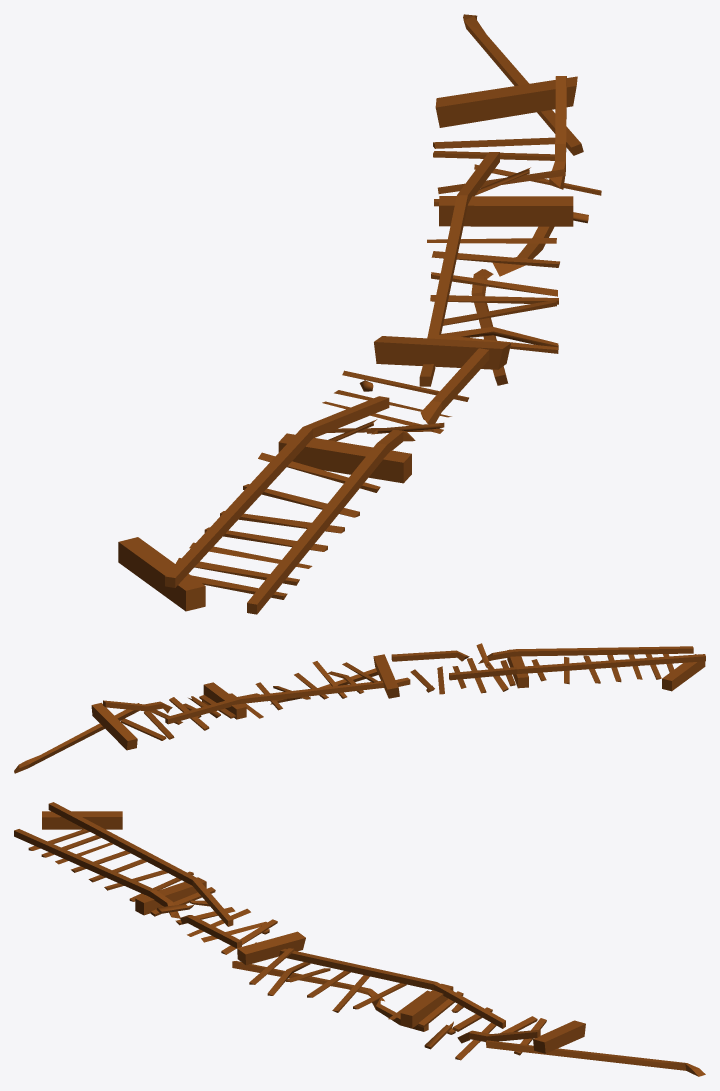
Rendered from fence00crush.fbx.
The picture shows the model from 3 angles, top to bottom: view 1: azimuth 30°, elevation 25°; view 2: azimuth 150°, elevation 25°; view 3: azimuth 270°, elevation 25°; orthographic projection. The views are drawn at different scales.
Parts seen in each view (by area): view 1: Abandoned House.002; view 2: Abandoned House.002; view 3: Abandoned House.002.
Boxes of the visible parts, box(x1,y1,x2,y2) form: Abandoned House.002: box(118, 14, 601, 614); Abandoned House.002: box(14, 643, 705, 773); Abandoned House.002: box(14, 802, 705, 1076).
Size of the model in its own units: 598 by 41.6 by 703.
